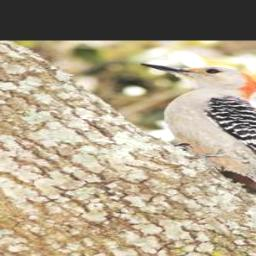Woodpecker: (133, 55, 256, 227)
